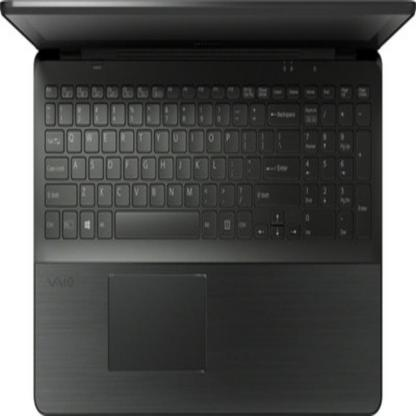board: (14, 0, 388, 406)
